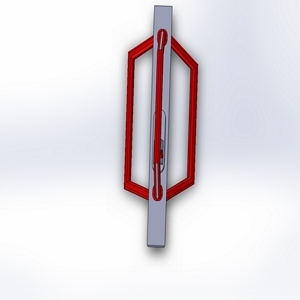submarine: (106, 1, 210, 259)
